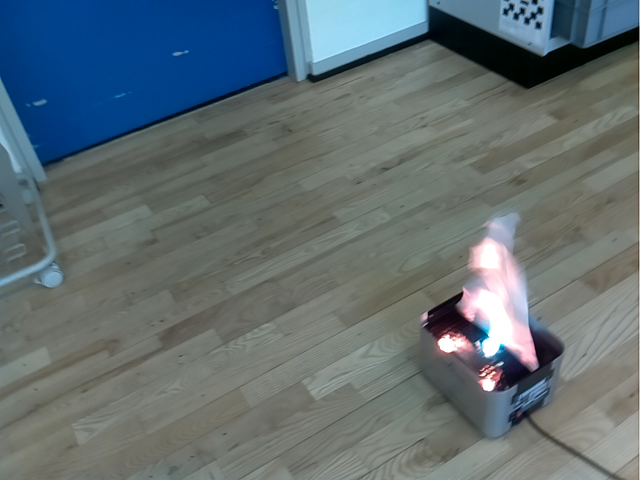fire: (454, 213, 540, 372)
